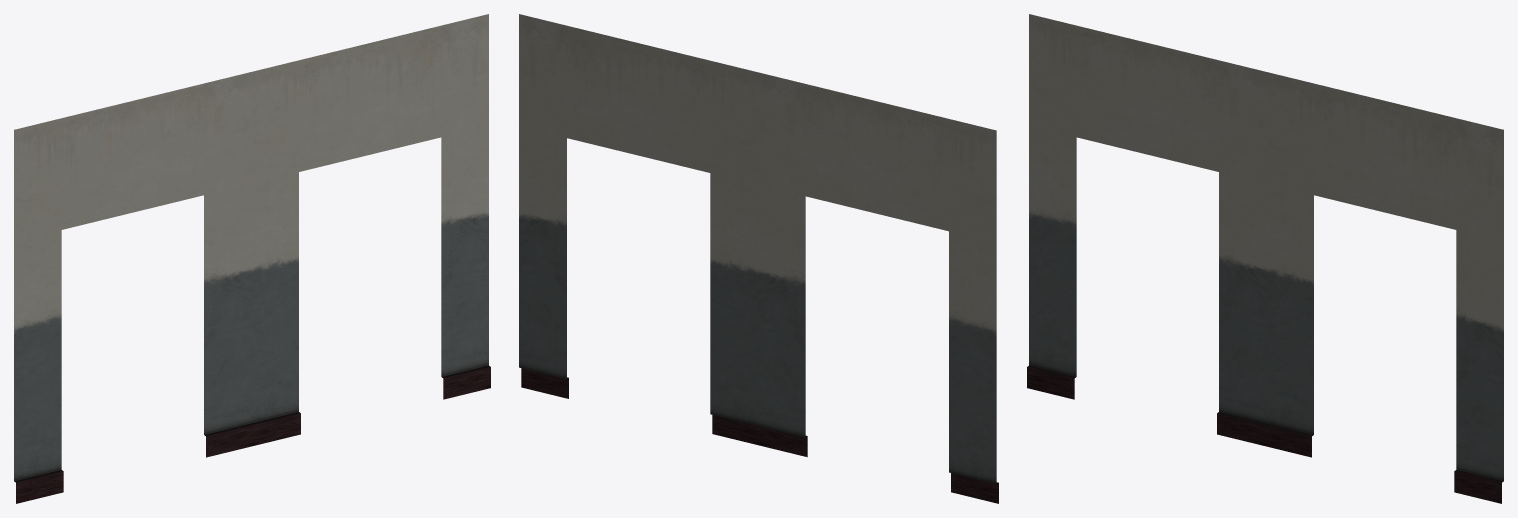
Rendered from Wall 4 Door E.fbx.
3 renders of one model, left to right at view 1: azimuth 30°, elevation 25°; view 2: azimuth 150°, elevation 25°; view 3: azimuth 330°, elevation 25°, orthographic.
Parts seen in each view (by area): view 1: Wall_4_Door_E; view 2: Wall_4_Door_E; view 3: Wall_4_Door_E.
Boxes of the visible parts, bbox=[...] form: Wall_4_Door_E: bbox=[14, 14, 490, 503]; Wall_4_Door_E: bbox=[519, 14, 998, 503]; Wall_4_Door_E: bbox=[1027, 14, 1503, 503].
Bounding box in the file's own units: 400 × 300 × 3.
